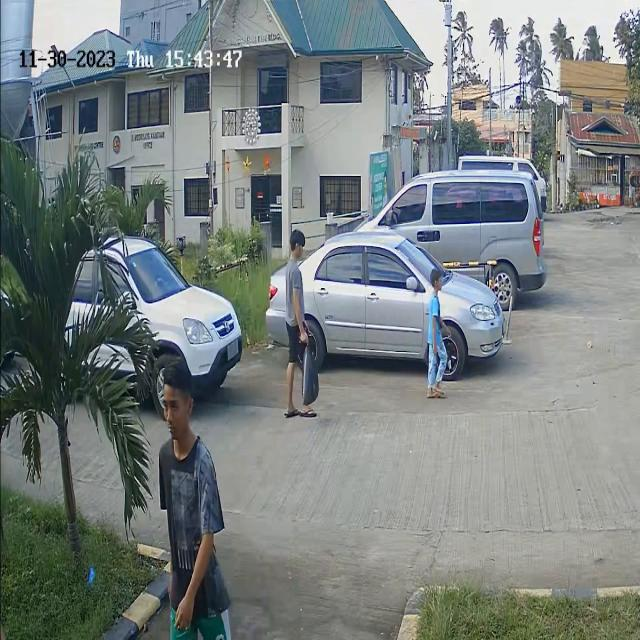person: (150, 360, 212, 539), (423, 260, 453, 401), (278, 221, 314, 337)
